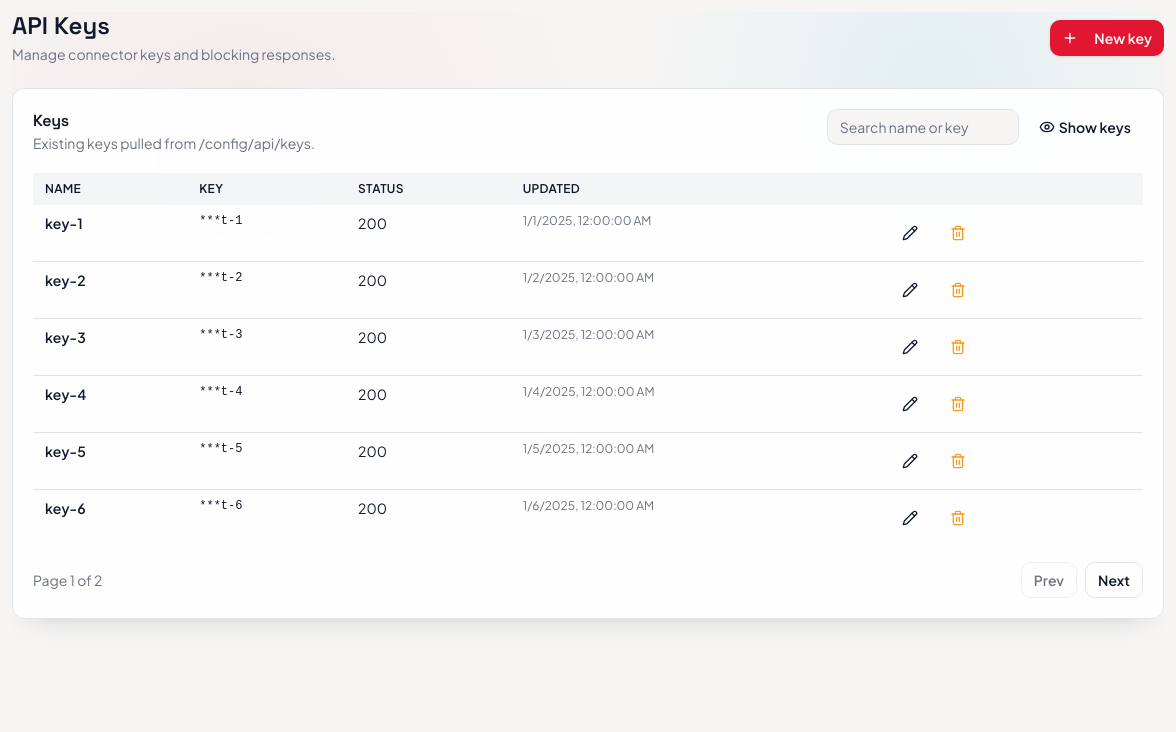
Test case: ApiKeysPage › paginates and filters keys
This screenshot has width=1176, height=732.
Expected: the text "key-1" is shown, top-left (33, 205), bottom-right (187, 262)
Expected: the text "key-7" is not shown
Click the button "Next" at (1114,580), box top-left (1085, 562), bottom-right (1143, 598)
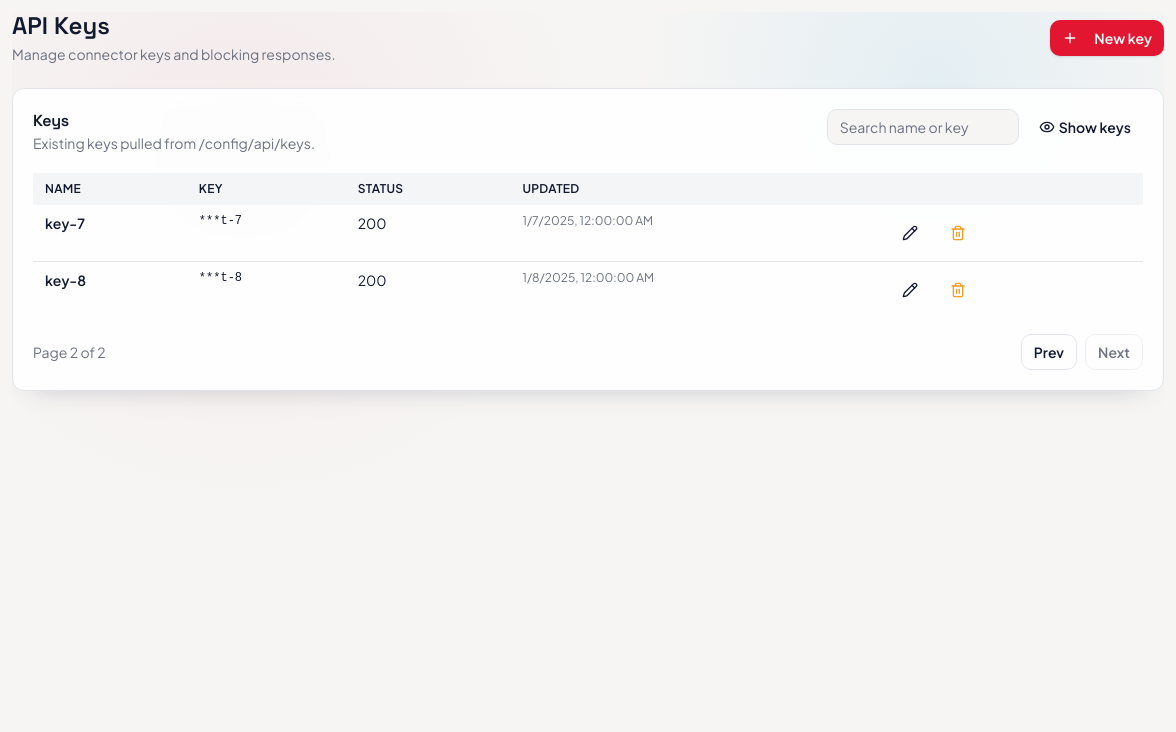
Expected: the text "key-7" is shown, top-left (33, 205), bottom-right (187, 262)
Type "key-3" into the field with placeholder "Search name or key" at (923,127), box top-left (827, 109), bottom-right (1019, 145)
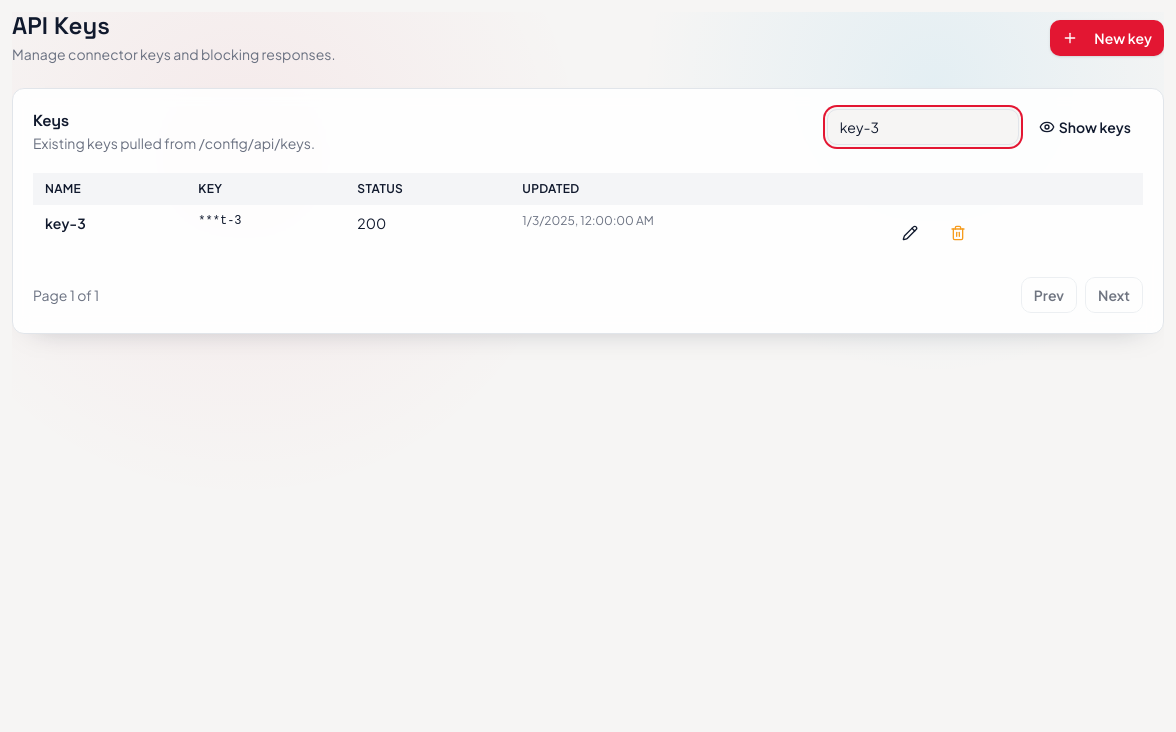
Expected: the text "key-1" is not shown
Expected: the text "key-3" is shown, top-left (33, 205), bottom-right (186, 261)
